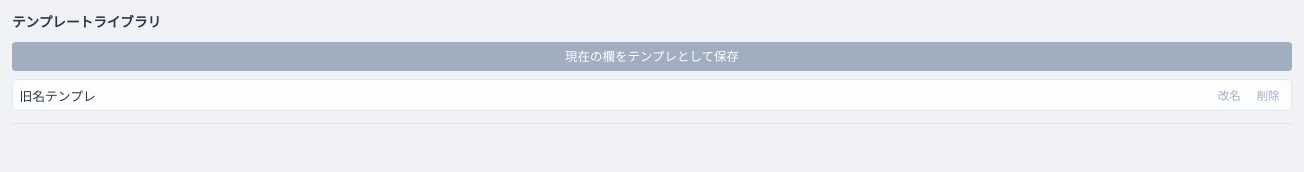
TemplateLibraryPanel: 改名 › 改名ボタンでインライン編集に入る
The image size is (1304, 172).
Click the button with aria-label "旧名テンプレ の名前を変更" at (1229,95), box [1213,85,1246,106]
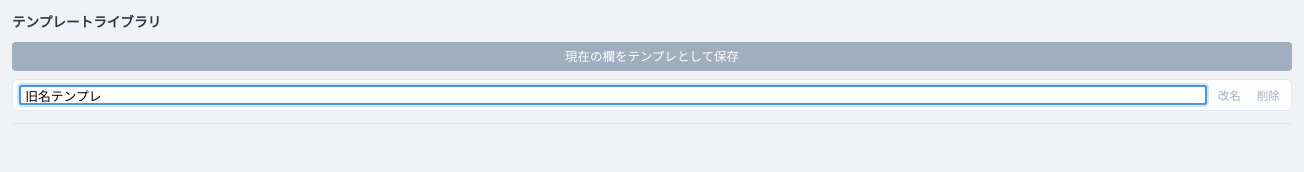
Result: the field named "旧名テンプレ の名前を編集" is shown at [19,85,1207,105]
